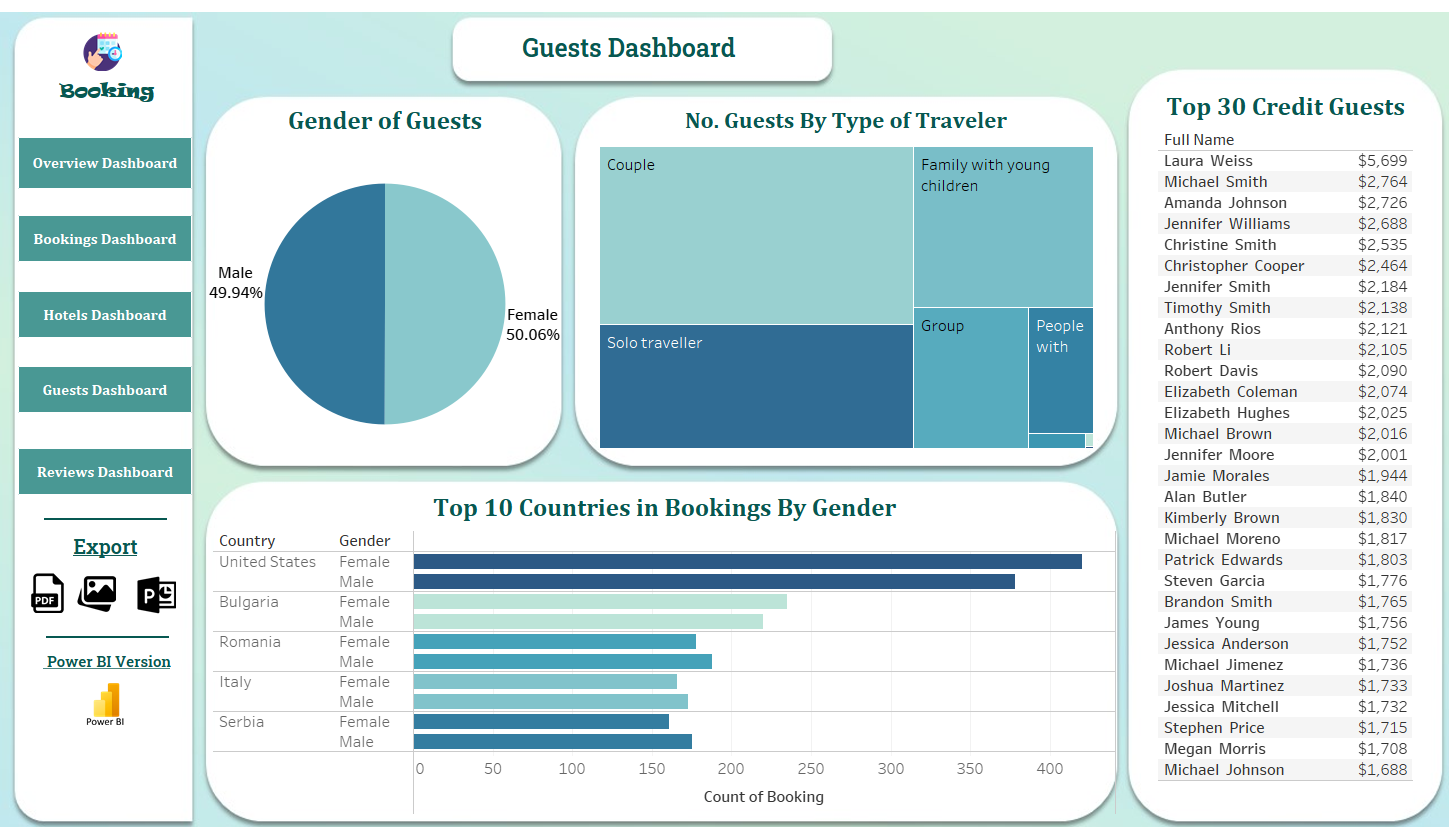

The page's visual inventory and layout, read from the dashboard file:
{"tool":"tableau","page":{"name":"Guest Dashboard","canvas":[1450,830],"ordinal":1},"visuals":[{"type":"image","param":"Image/gae.jpg","box":[0,6,1449,827]},{"type":"text","box":[519,30,370,34]},{"type":"image","param":"Image/choose.png","box":[83,32,47,39]},{"type":"text","box":[56,75,100,30]},{"type":"worksheet","title":"Top Total amounts By guest name (Guest)","mark":"Automatic","rows":["Full_Name"],"box":[1158,85,278,748]},{"type":"worksheet","title":"Gender (guest)","mark":"Pie","box":[209,99,352,365]},{"type":"worksheet","title":"No. Guests By Type of traveler (Guest)","mark":"Automatic","box":[595,100,502,367]},{"type":"dashboard-object","box":[18,137,174,52]},{"type":"dashboard-object","box":[18,215,174,47]},{"type":"dashboard-object","box":[18,291,174,47]},{"type":"dashboard-object","box":[18,366,174,47]},{"type":"dashboard-object","box":[18,448,174,47]},{"type":"blank","box":[44,518,123,2]},{"type":"text","box":[70,530,72,34]},{"type":"dashboard-object","box":[59,574,76,39]},{"type":"dashboard-object","box":[111,575,91,39]},{"type":"blank","box":[46,636,123,2]},{"type":"text","box":[40,649,144,25]},{"type":"image","param":"Image/Microsoft-Power-BI-Symbol.png","box":[67,682,77,61]}]}

Visuals, with their boxes in screenshot pixels (x1, y1, x2, y2), scaled from the page's 1450x830 canvas onto the 1450x830 screenshot:
image: 0,6,1449,829
text: 519,30,889,64
image: 83,32,130,71
text: 56,75,156,105
"Top Total amounts By guest name (Guest)" worksheet: 1158,85,1436,829
"Gender (guest)" worksheet (Pie marks): 209,99,561,464
"No. Guests By Type of traveler (Guest)" worksheet: 595,100,1097,467
dashboard-object: 18,137,192,189
dashboard-object: 18,215,192,262
dashboard-object: 18,291,192,338
dashboard-object: 18,366,192,413
dashboard-object: 18,448,192,495
blank: 44,518,167,520
text: 70,530,142,564
dashboard-object: 59,574,135,613
dashboard-object: 111,575,202,614
blank: 46,636,169,638
text: 40,649,184,674
image: 67,682,144,743
